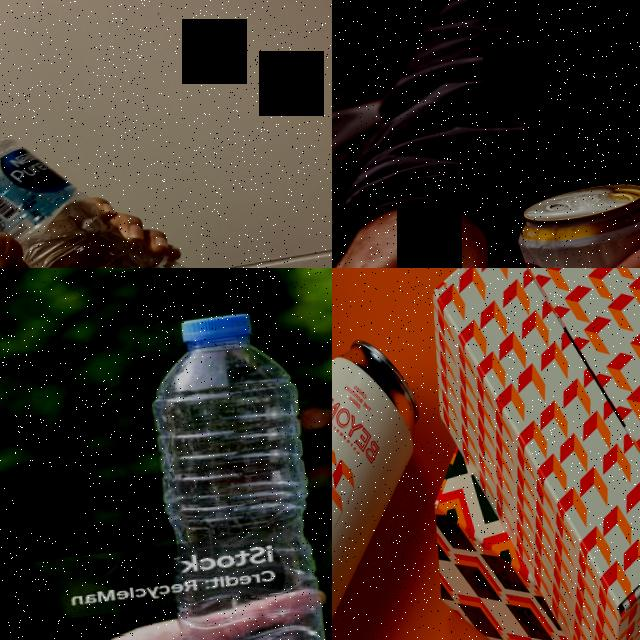bottle: (138, 303, 332, 640), (0, 68, 247, 268)
can: (332, 332, 450, 640), (512, 173, 640, 268)
